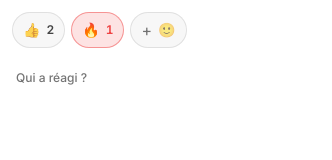
ReactionBar › shows why the server refused
Click the button named "pouce levé : 2" at (39, 30), box top-left (12, 12), bottom-right (65, 48)
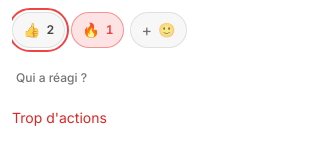
Expected: the message reads "Trop d'actions", top-left (12, 109), bottom-right (107, 126)
